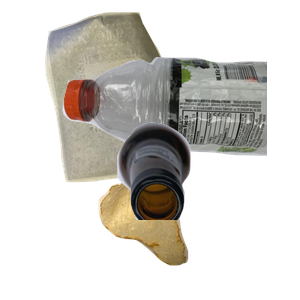glass: (115, 120, 300, 300)
paper: (43, 10, 221, 185)
plastic: (60, 53, 300, 201)
trash: (96, 181, 277, 300)
